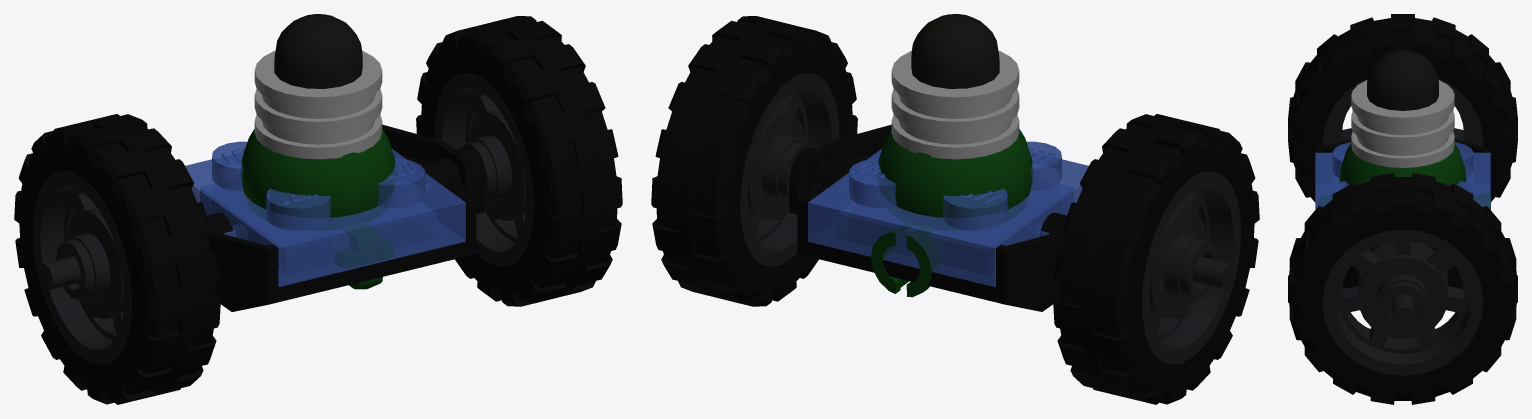
The model's file is RC Car.dae.
3 views of the same model, side by side, from view 1: azimuth 30°, elevation 25°; view 2: azimuth 150°, elevation 25°; view 3: azimuth 270°, elevation 25° (orthographic). The views are drawn at different scales.
Parts seen in each view (by area): view 1: Part_50861.10, Part_50861.4, Part_422.1, Part_6157.6, Part_50862.11, Part_20401.7, Part_2851.8, Part_50862.5, Part_4770.9, Part_3464.12, Part_3464.3, Part_6562.13; view 2: Part_50861.10, Part_50861.4, Part_422.1, Part_6157.6, Part_50862.11, Part_20401.7, Part_2851.8, Part_50862.5, Part_4770.9, Part_3464.12, Part_3464.3, Part_6562.13; view 3: Part_50861.4, Part_50861.10, Part_50862.5, Part_2851.8, Part_3464.3, Part_4770.9, Part_422.1, Part_20401.7, Part_50862.11, Part_6157.6, Part_6562.13.
Boxes of the visible parts, x1=… form: Part_50861.10: x1=14, y1=114, x2=220, y2=404; Part_50861.4: x1=416, y1=16, x2=622, y2=306; Part_422.1: x1=185, y1=141, x2=465, y2=286; Part_6157.6: x1=206, y1=124, x2=484, y2=311; Part_50862.11: x1=32, y1=171, x2=131, y2=364; Part_20401.7: x1=241, y1=129, x2=395, y2=230; Part_2851.8: x1=254, y1=50, x2=382, y2=159; Part_50862.5: x1=434, y1=73, x2=533, y2=266; Part_4770.9: x1=274, y1=14, x2=362, y2=88; Part_3464.12: x1=59, y1=209, x2=124, y2=318; Part_3464.3: x1=469, y1=111, x2=526, y2=220; Part_6562.13: x1=334, y1=222, x2=393, y2=289; Part_50861.10: x1=1053, y1=114, x2=1259, y2=404; Part_50861.4: x1=651, y1=16, x2=857, y2=306; Part_422.1: x1=808, y1=141, x2=1088, y2=286; Part_6157.6: x1=789, y1=124, x2=1067, y2=311; Part_50862.11: x1=1142, y1=171, x2=1241, y2=364; Part_20401.7: x1=878, y1=129, x2=1032, y2=230; Part_2851.8: x1=891, y1=50, x2=1019, y2=159; Part_50862.5: x1=740, y1=73, x2=839, y2=266; Part_4770.9: x1=911, y1=14, x2=999, y2=88; Part_3464.12: x1=1149, y1=209, x2=1214, y2=318; Part_3464.3: x1=747, y1=111, x2=804, y2=220; Part_6562.13: x1=870, y1=221, x2=939, y2=297; Part_50861.4: x1=1288, y1=173, x2=1517, y2=404; Part_50861.10: x1=1288, y1=14, x2=1517, y2=202; Part_50862.5: x1=1322, y1=230, x2=1483, y2=375; Part_2851.8: x1=1351, y1=80, x2=1454, y2=167; Part_3464.3: x1=1358, y1=241, x2=1447, y2=338; Part_4770.9: x1=1367, y1=50, x2=1438, y2=110; Part_422.1: x1=1315, y1=142, x2=1490, y2=209; Part_20401.7: x1=1339, y1=143, x2=1466, y2=186; Part_50862.11: x1=1322, y1=78, x2=1483, y2=146; Part_6157.6: x1=1315, y1=140, x2=1490, y2=288; Part_6562.13: x1=1318, y1=192, x2=1490, y2=209.
Size of the model in its own units: 46.4 by 26.02 by 20.88.
